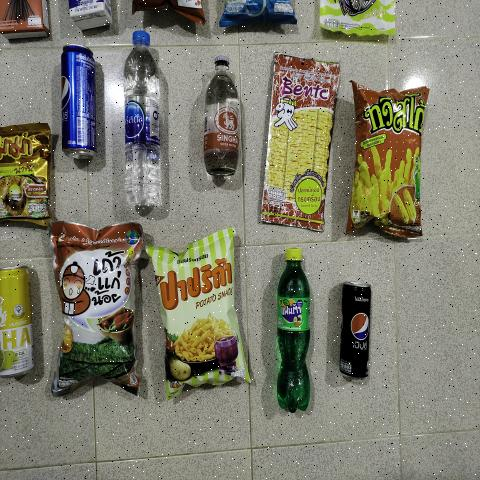bento_red: (260, 55, 338, 218)
crystal: (122, 27, 162, 208)
fanta_green: (274, 246, 312, 414)
mama: (0, 129, 47, 222)
paprika: (164, 242, 233, 402)
pepsi_black: (335, 280, 378, 376)
pepsi_blue: (62, 49, 89, 154)
singha_soda: (202, 54, 238, 176)
taokaenoi: (54, 232, 131, 390)
twisco: (346, 88, 426, 232)
